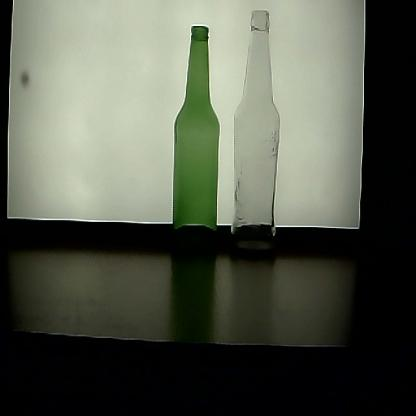Can: (225, 11, 284, 262), (169, 22, 222, 266)
